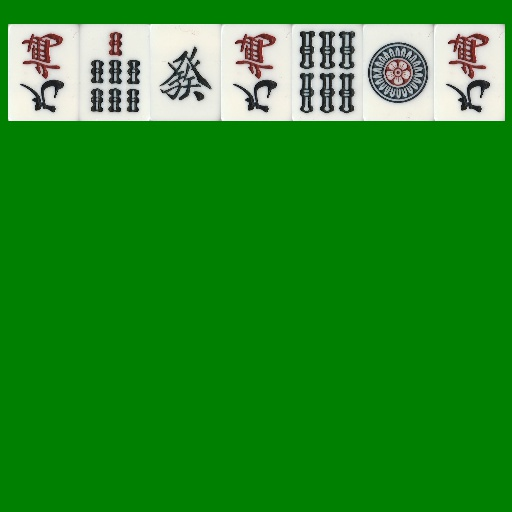1p: (363, 24, 434, 121)
6s: (292, 24, 363, 121)
7s: (79, 24, 150, 121)
9m: (8, 24, 79, 121), (221, 24, 292, 121), (434, 24, 505, 121)
hatsu: (150, 24, 221, 121)
